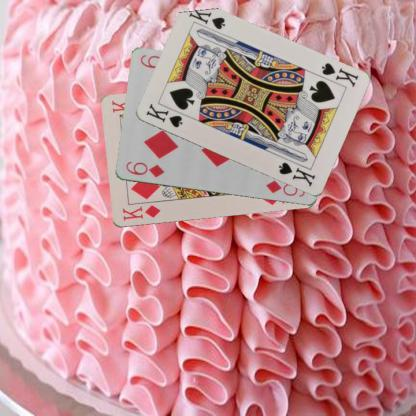6d: (123, 159, 166, 179)
Kd: (120, 203, 162, 222)
Ks: (142, 101, 184, 130), (318, 60, 360, 89)
